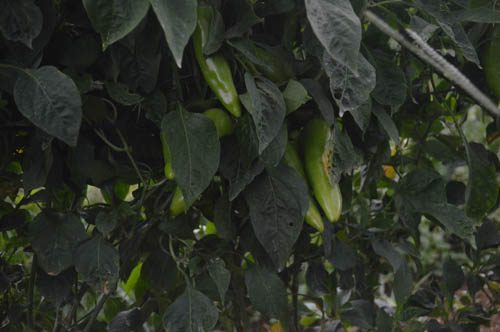ChiliPepper: (191, 5, 242, 117), (297, 117, 350, 221), (273, 140, 324, 232), (155, 115, 190, 177), (190, 103, 238, 144), (160, 178, 193, 220)
